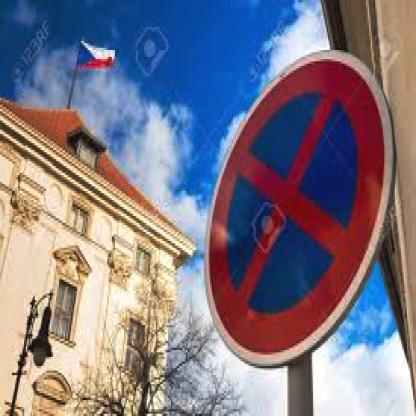No stopping: (210, 52, 386, 354)
